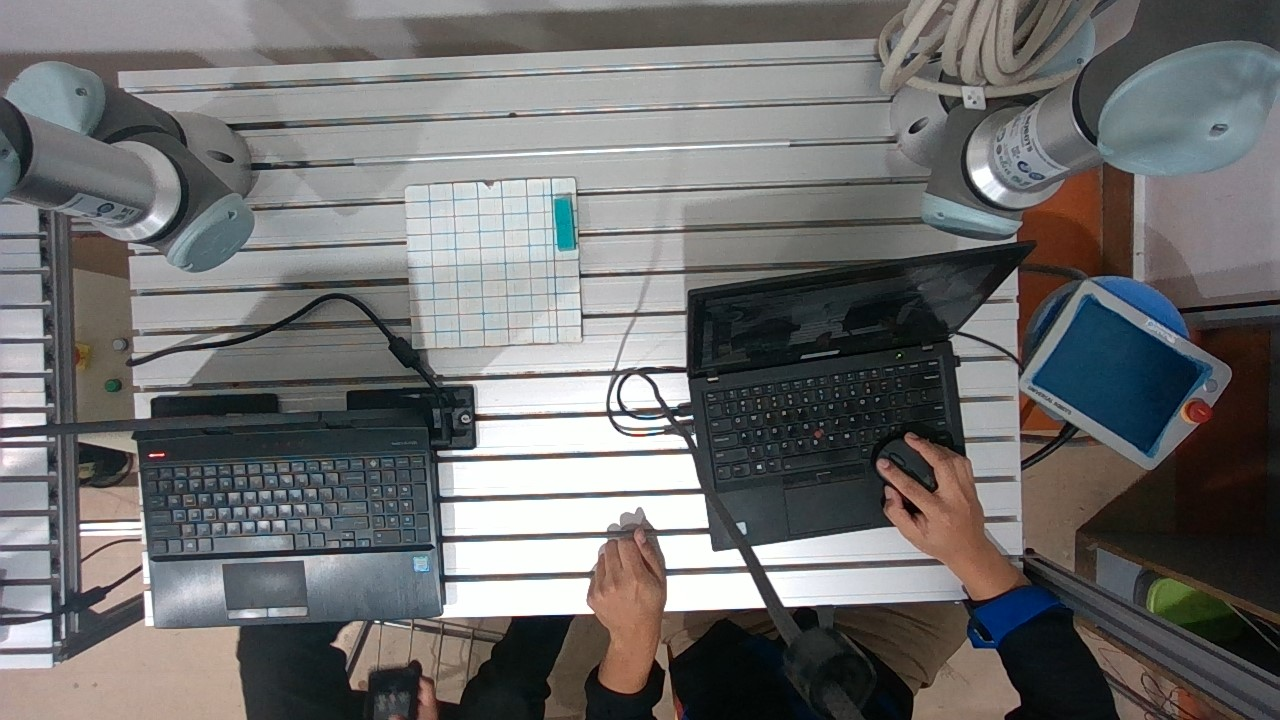box: (541, 193, 587, 263)
